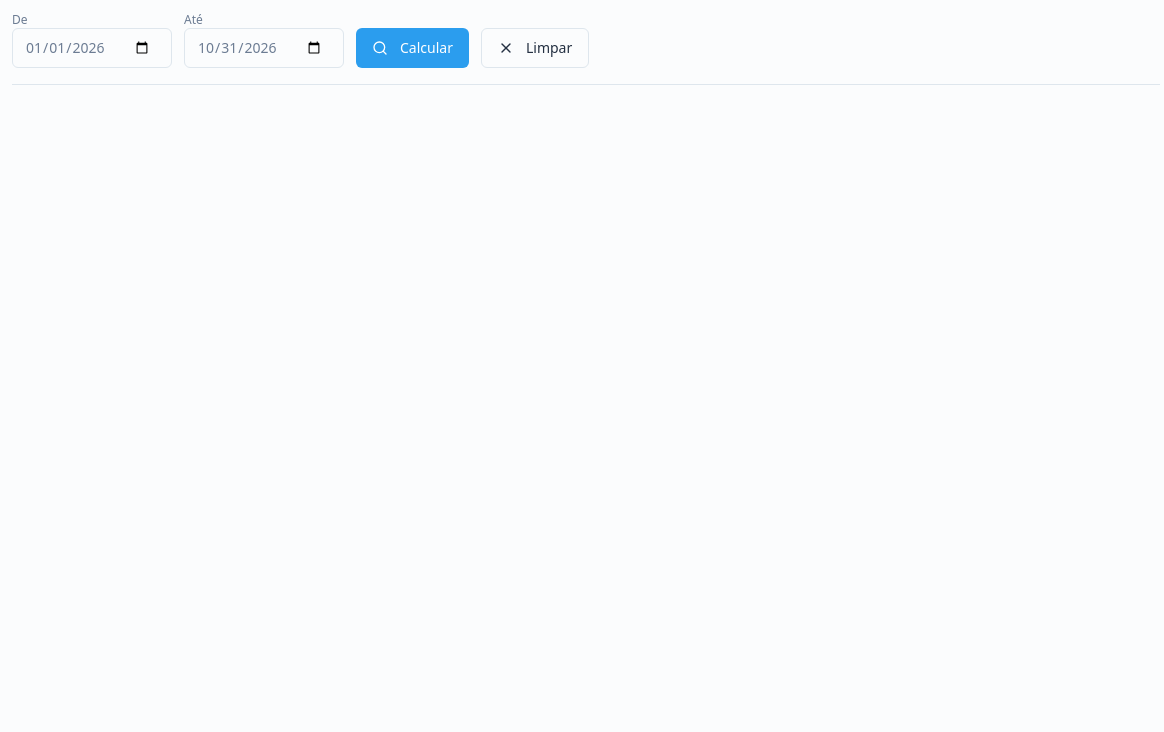
Test: consultas da Movimentação sob demanda › consulta vidas no fechamento mensal e reutiliza os totais das barras sem buscar detalhes
The width and height of the screenshot is (1164, 732).
Type "2026-10-01" into the date field labelled "De".
click(92, 48); type("2026-10-01")  # box 12,28 -> 172,68
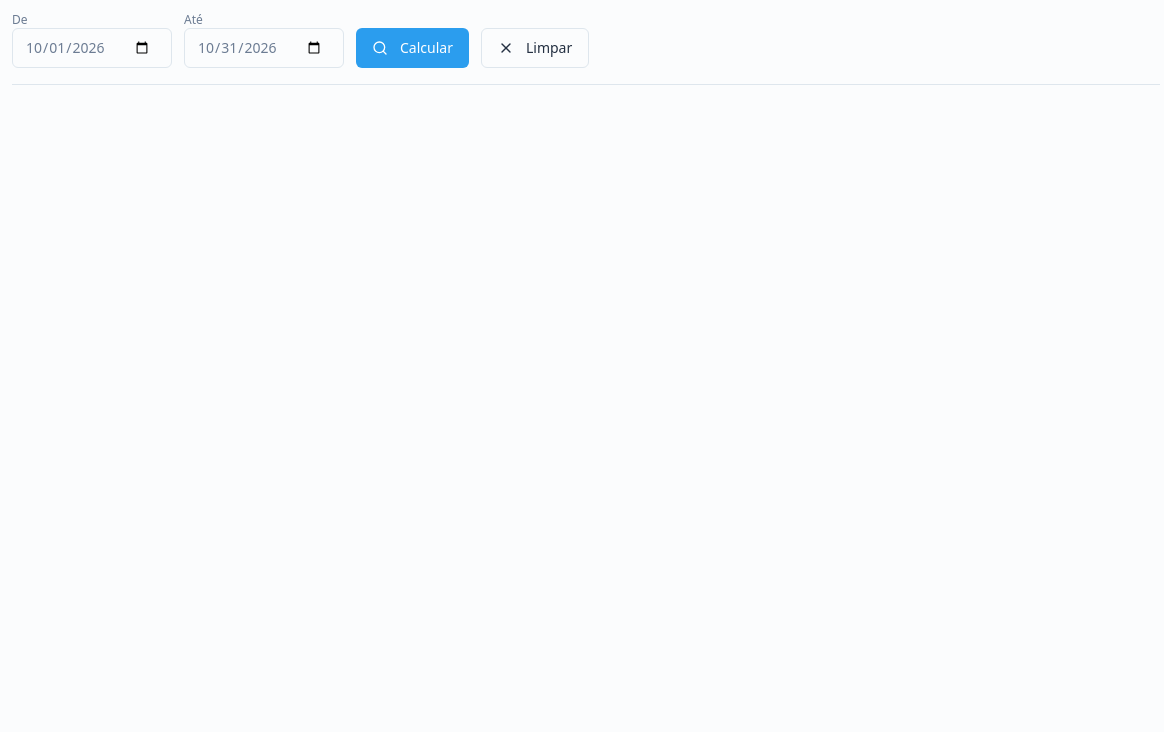
Type "2026-10-23" into the date field labelled "Até".
click(264, 48); type("2026-10-23")  # box 184,28 -> 344,68
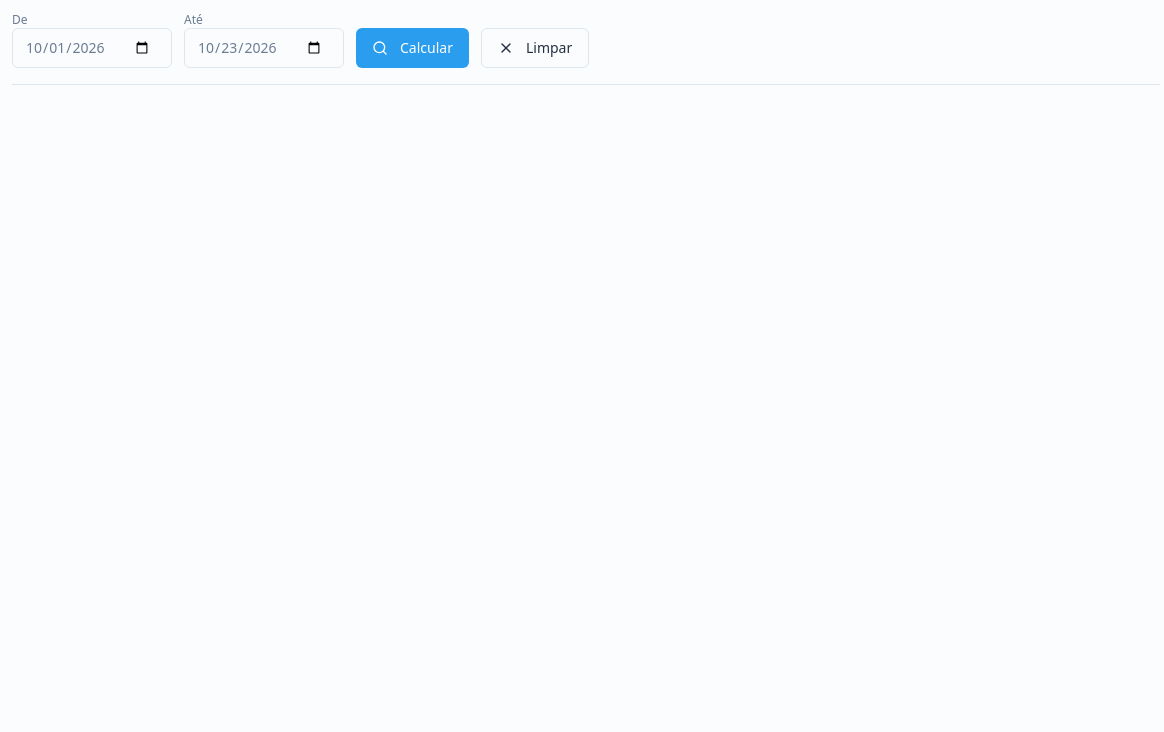
Click the button "Calcular".
click(412, 48)  # box 356,28 -> 469,68
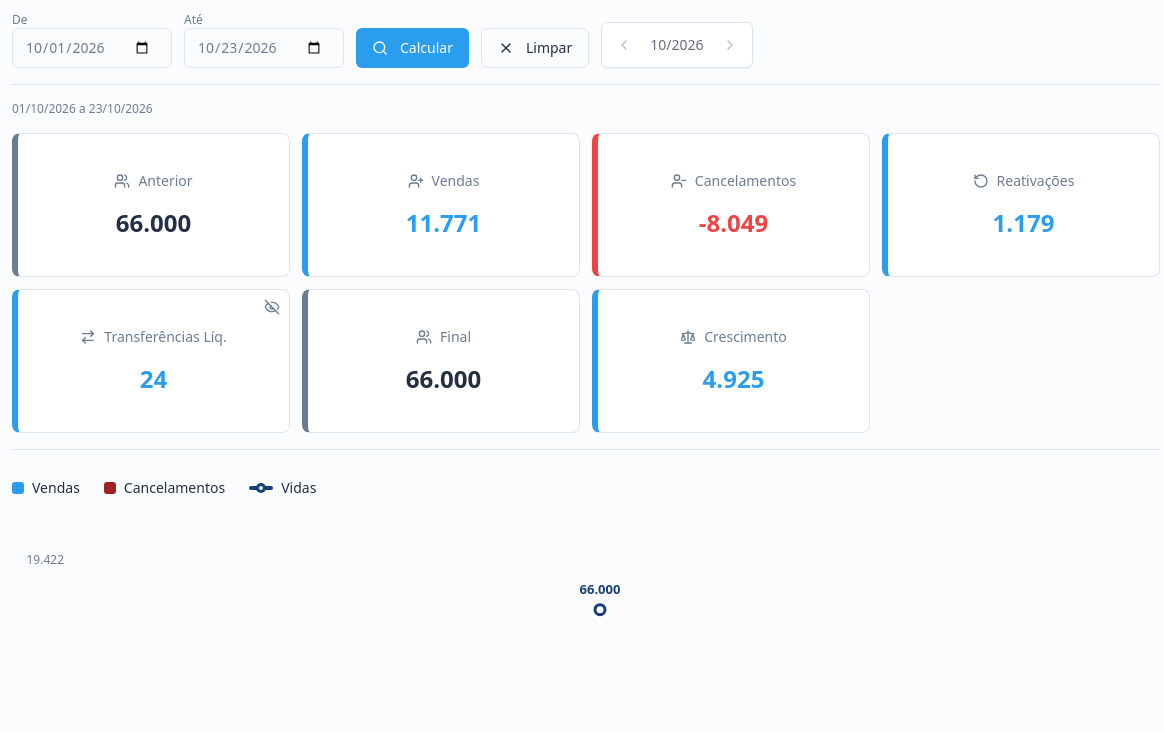
Now the button named "Abrir depuração" is enabled, box 258,293 -> 286,321
